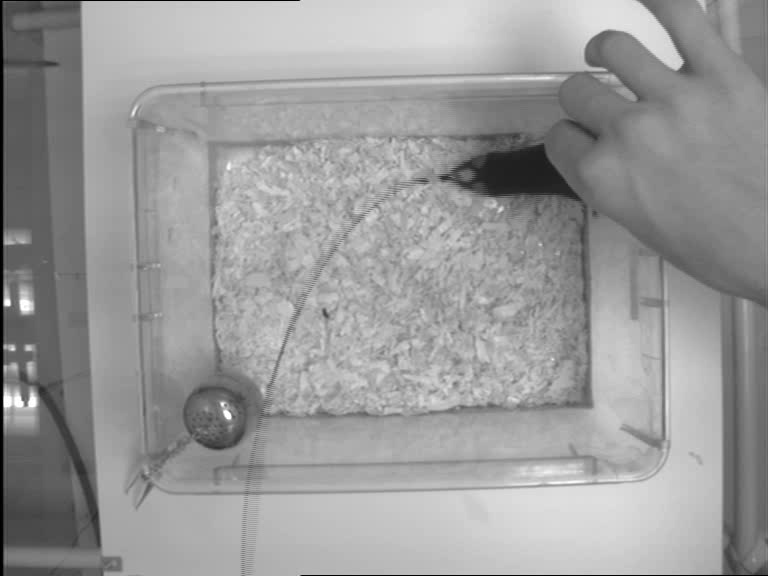mice: (445, 136, 597, 199)
